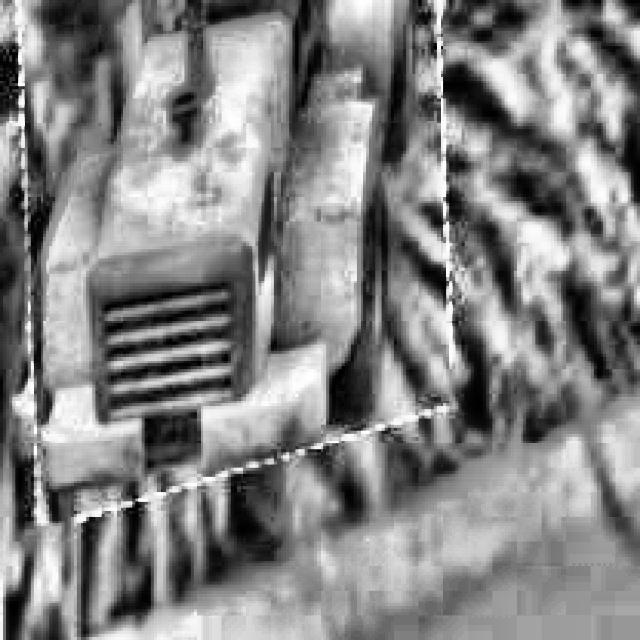buldozerpayloadergrader: (43, 0, 437, 505)
